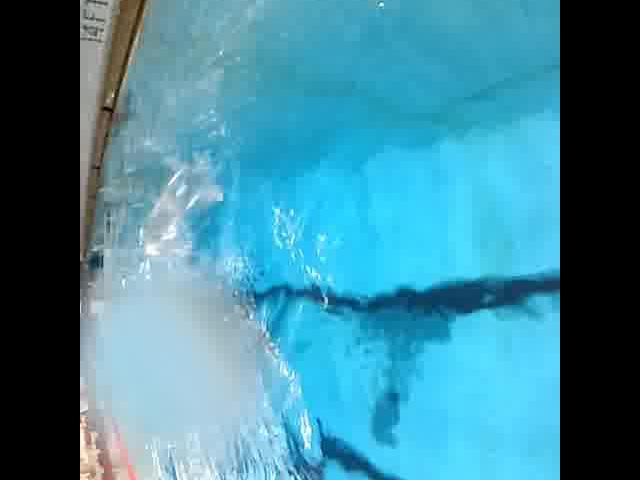Bottle: (135, 155, 233, 265)
